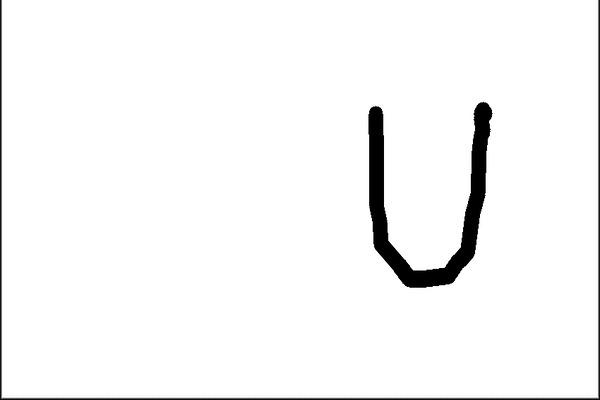U: (345, 95, 498, 291)
